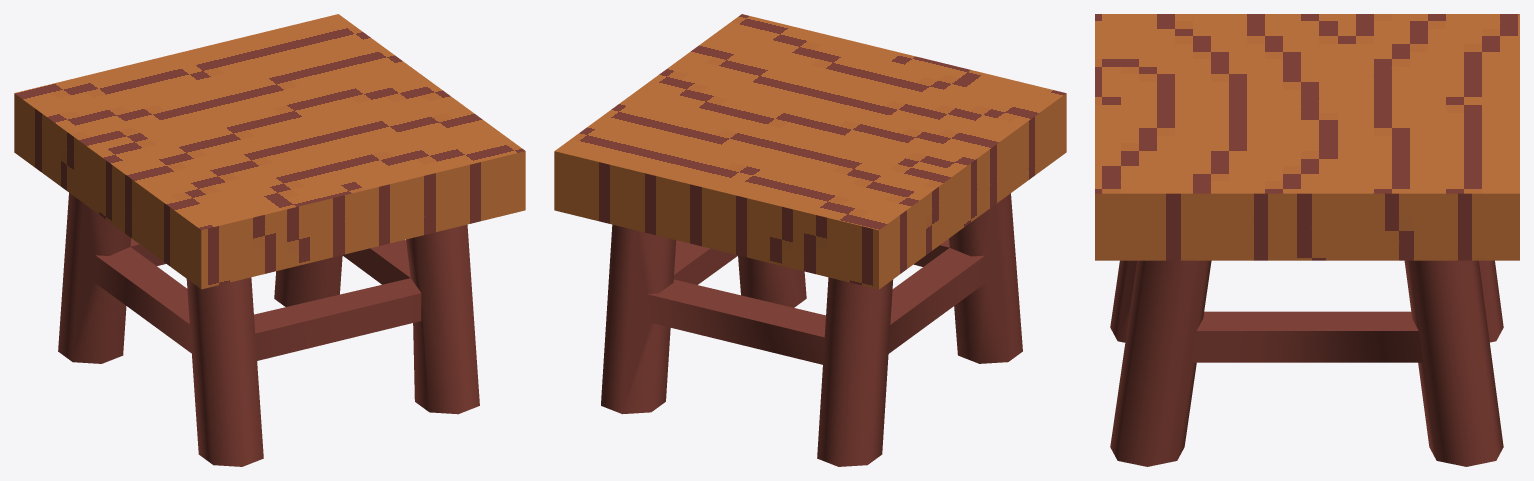
File: stool.fbx
3 renders of one model, left to right at view 1: azimuth 30°, elevation 25°; view 2: azimuth 150°, elevation 25°; view 3: azimuth 270°, elevation 25°, orthographic. The views are drawn at different scales.
Visible parts, largest first — view 1: stool; view 2: stool; view 3: stool.
Boxes of the visible parts, left/top/right/bottom form: stool: left=14, top=14, right=525, bottom=466; stool: left=554, top=14, right=1066, bottom=466; stool: left=1095, top=14, right=1519, bottom=466.
Bounding box in the file's own units: 63.6 × 47.45 × 63.6.
Materials: 1 (1 with a texture image).
